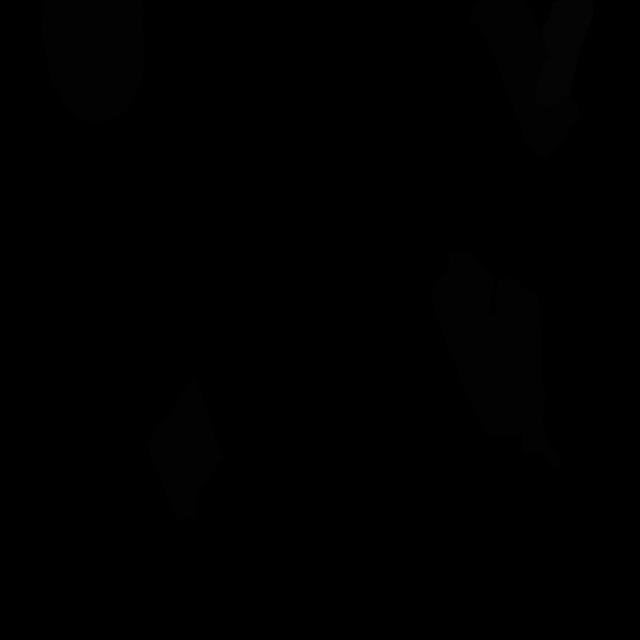cardboard: (430, 250, 561, 467), (470, 0, 580, 159), (41, 0, 145, 122), (147, 377, 225, 522)
soft_plastic: (534, 0, 593, 107)
